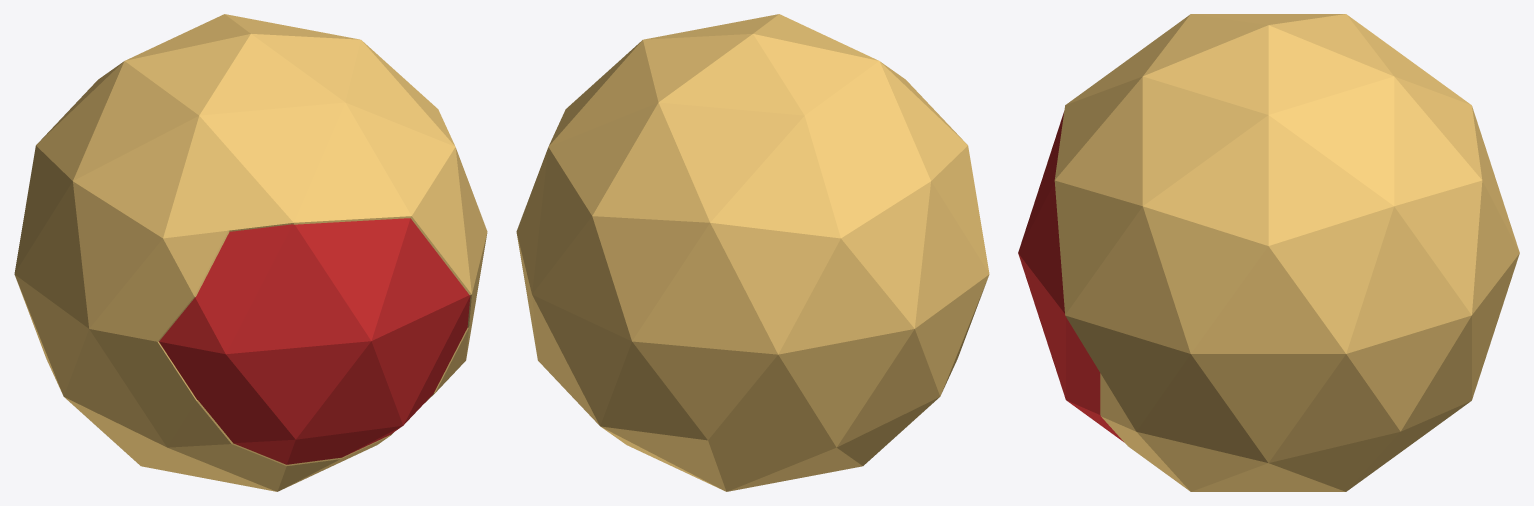
File: Pluto.fbx
3 renders of one model, left to right at view 1: azimuth 30°, elevation 25°; view 2: azimuth 150°, elevation 25°; view 3: azimuth 270°, elevation 25°, orthographic. The views are drawn at different scales.
Parts seen in each view (by area): view 1: Pluto.001; view 2: Pluto.001; view 3: Pluto.001.
Boxes of the visible parts, left/top/right/bottom form: Pluto.001: left=14, top=14, right=487, bottom=491; Pluto.001: left=516, top=14, right=989, bottom=491; Pluto.001: left=1018, top=14, right=1519, bottom=491.
Bounding box in the file's own units: 193 × 203 × 203.
